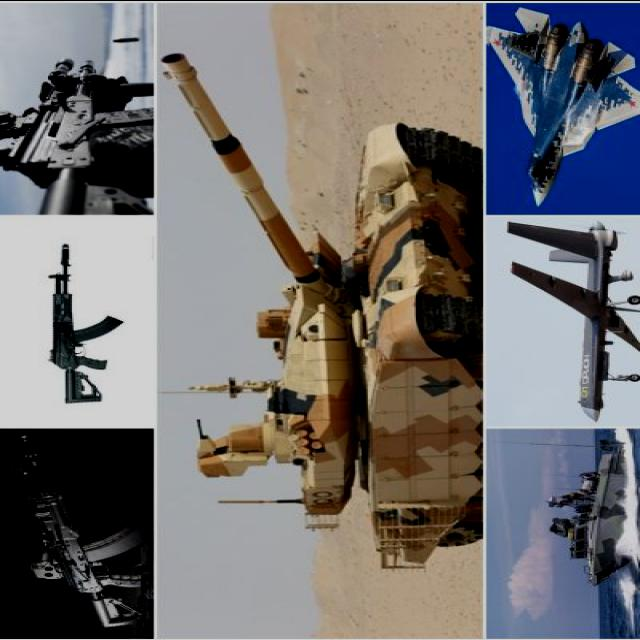long weapon: (8, 427, 159, 639), (22, 234, 132, 405)
